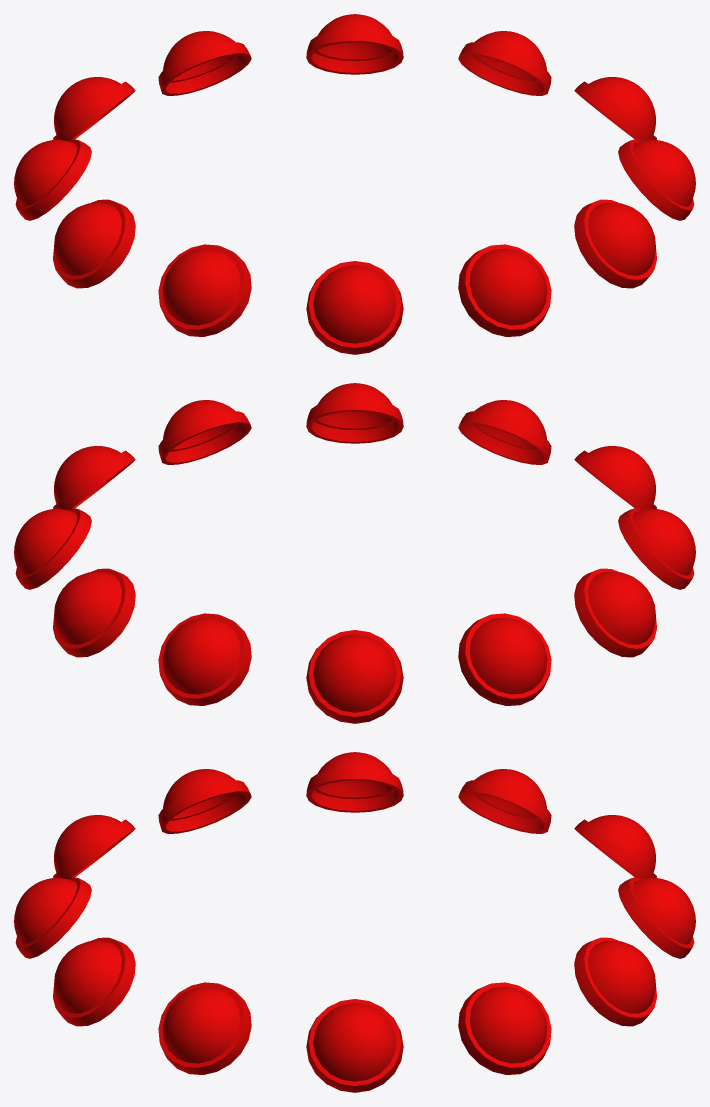
Rendered from UFO_Hubs.fbx.
3 views of the same model, one above another, from view 1: azimuth 30°, elevation 25°; view 2: azimuth 150°, elevation 25°; view 3: azimuth 270°, elevation 25° (orthographic).
Visible parts, largest first — view 1: polySurface8, polySurface1, polySurface6, polySurface3, polySurface5, polySurface10, polySurface9, polySurface12, polySurface4, polySurface11, polySurface2, polySurface7; view 2: polySurface2, polySurface9, polySurface11, polySurface3, polySurface10, polySurface5, polySurface4, polySurface6, polySurface1, polySurface12, polySurface7, polySurface8; view 3: polySurface7, polySurface4, polySurface12, polySurface5, polySurface10, polySurface3, polySurface1, polySurface11, polySurface6, polySurface9, polySurface2, polySurface8.
Part boxes in pixels (x1=…): polySurface8: x1=306, y1=261, x2=403, y2=354; polySurface1: x1=458, y1=244, x2=551, y2=336; polySurface6: x1=158, y1=244, x2=251, y2=336; polySurface3: x1=53, y1=199, x2=135, y2=288; polySurface5: x1=574, y1=199, x2=656, y2=288; polySurface10: x1=306, y1=14, x2=403, y2=74; polySurface9: x1=14, y1=139, x2=91, y2=220; polySurface12: x1=618, y1=139, x2=695, y2=220; polySurface4: x1=458, y1=31, x2=551, y2=95; polySurface11: x1=158, y1=31, x2=251, y2=95; polySurface2: x1=53, y1=77, x2=135, y2=141; polySurface7: x1=574, y1=77, x2=656, y2=141; polySurface2: x1=306, y1=630, x2=403, y2=723; polySurface9: x1=458, y1=613, x2=551, y2=705; polySurface11: x1=158, y1=613, x2=251, y2=705; polySurface3: x1=574, y1=568, x2=656, y2=657; polySurface10: x1=53, y1=568, x2=135, y2=657; polySurface5: x1=306, y1=383, x2=403, y2=443; polySurface4: x1=14, y1=508, x2=91, y2=589; polySurface6: x1=618, y1=508, x2=695, y2=589; polySurface1: x1=458, y1=400, x2=551, y2=464; polySurface12: x1=158, y1=400, x2=251, y2=464; polySurface7: x1=53, y1=446, x2=135, y2=510; polySurface8: x1=574, y1=446, x2=656, y2=510; polySurface7: x1=306, y1=999, x2=403, y2=1092; polySurface4: x1=458, y1=982, x2=551, y2=1074; polySurface12: x1=158, y1=982, x2=251, y2=1074; polySurface5: x1=53, y1=937, x2=135, y2=1026; polySurface10: x1=574, y1=937, x2=656, y2=1026; polySurface3: x1=306, y1=752, x2=403, y2=812; polySurface1: x1=14, y1=877, x2=91, y2=958; polySurface11: x1=618, y1=877, x2=695, y2=958; polySurface6: x1=158, y1=769, x2=251, y2=833; polySurface9: x1=458, y1=769, x2=551, y2=833; polySurface2: x1=574, y1=815, x2=656, y2=879; polySurface8: x1=53, y1=815, x2=135, y2=879.
Size of the model in its own units: 1.16 by 1.16 by 0.1336.
